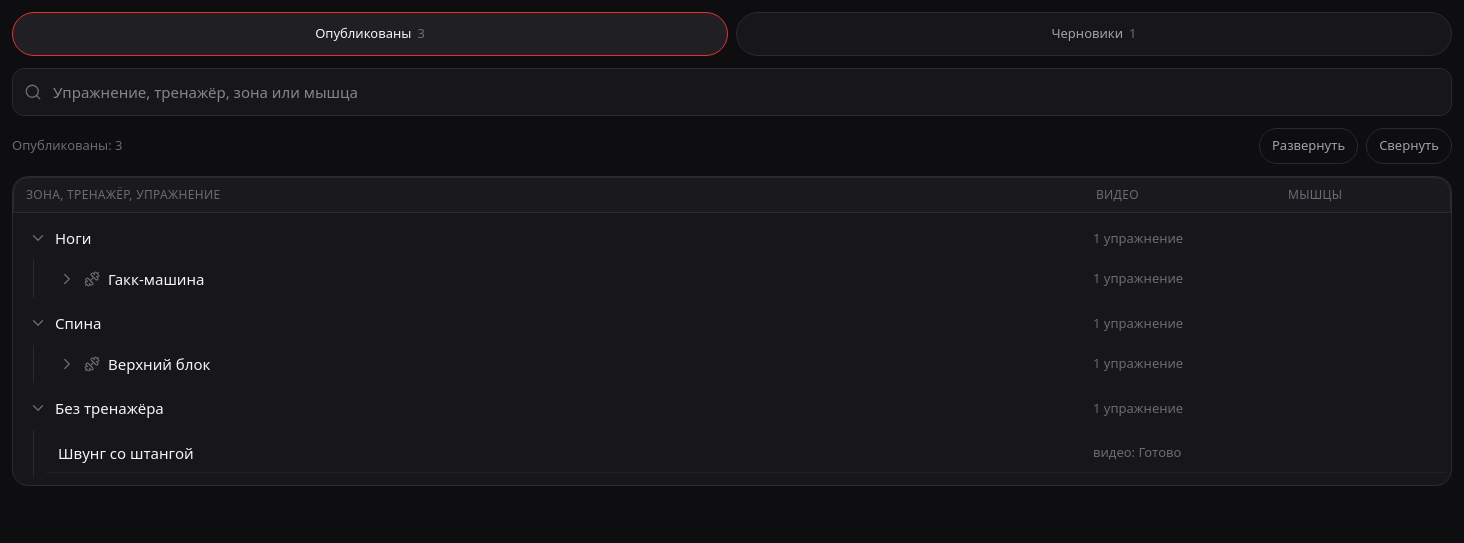
Test: клик по тренажёру раскрывает его упражнения
The width and height of the screenshot is (1464, 543).
Click the button "Гакк-машина 1 упражнение".
click(156, 278)  # box [46,260,1447,298]
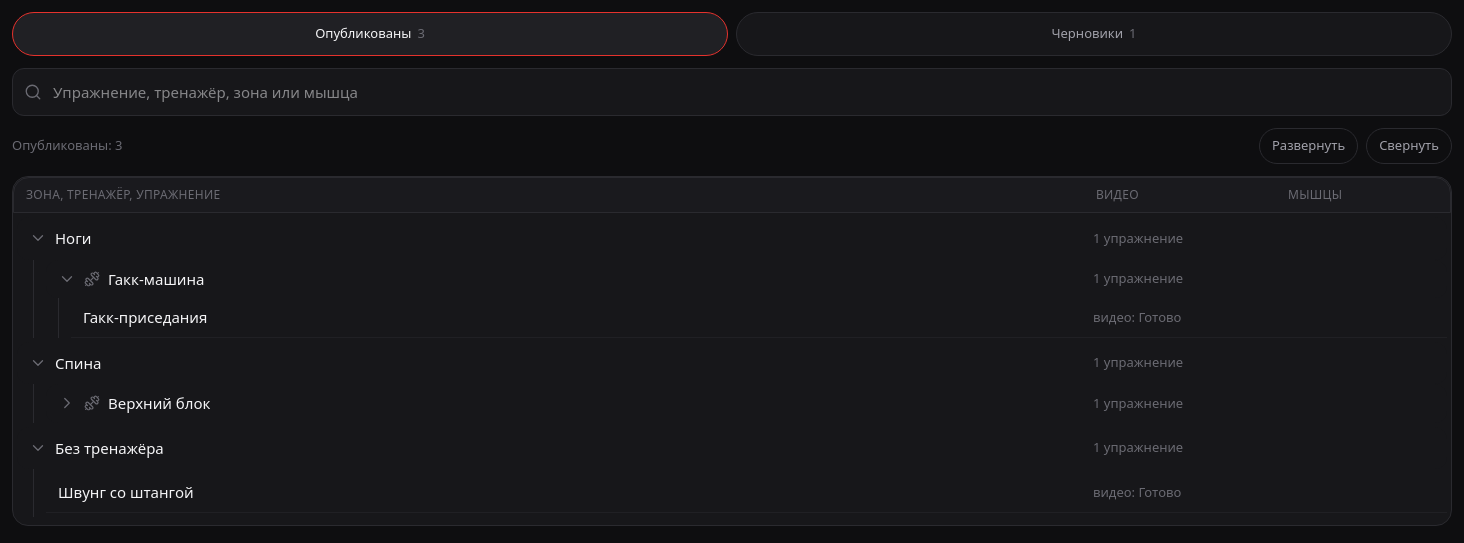
Expected: the button "Гакк-приседания видео: Готово" is shown, [71,298,1447,338]
